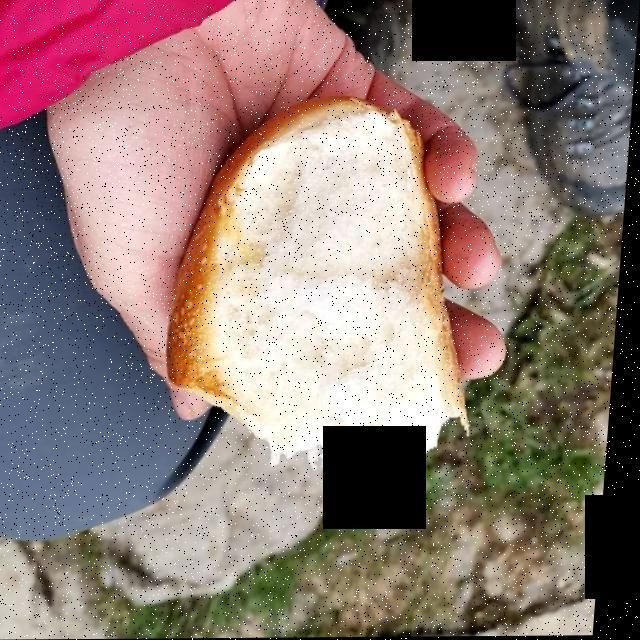bread: (172, 97, 454, 477)
